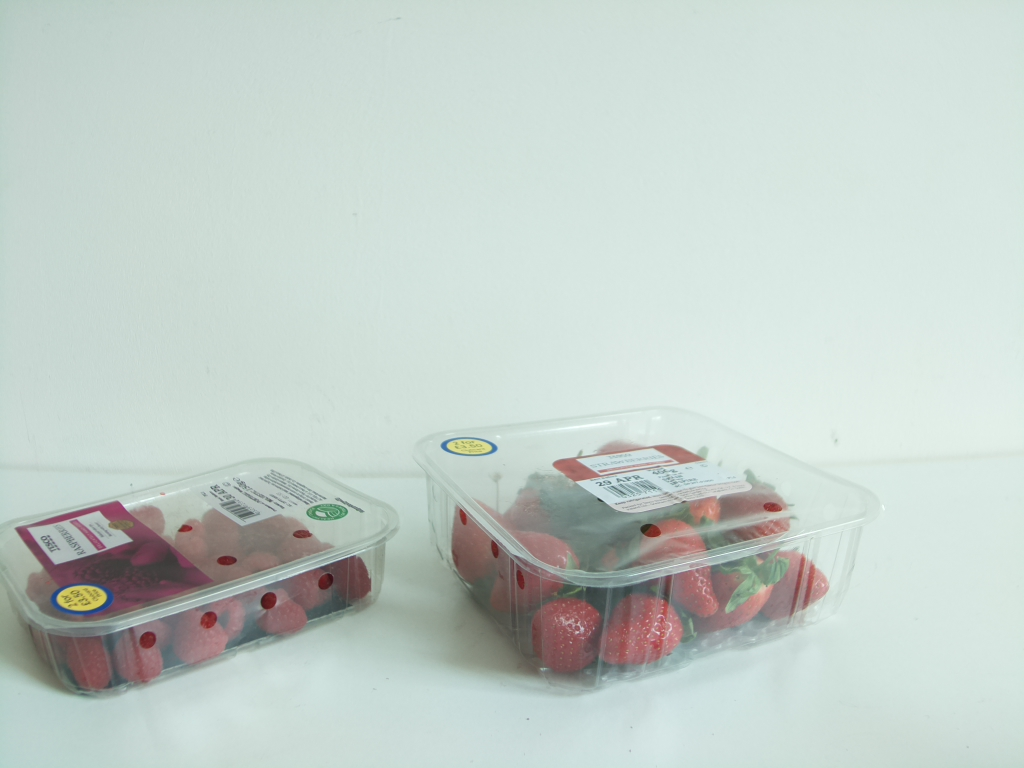soft-fruit: (412, 412, 884, 689), (1, 456, 410, 701)
